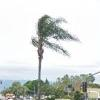Palm tree: (29, 10, 56, 75)
